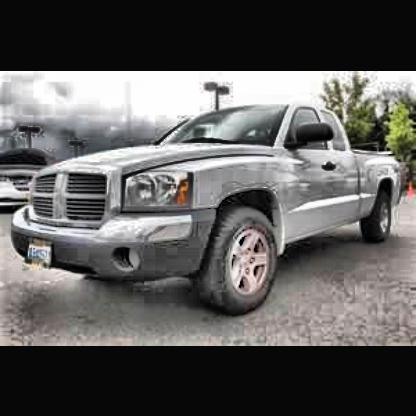Dodge Dakota Club Cab 2007: (13, 106, 406, 316)
